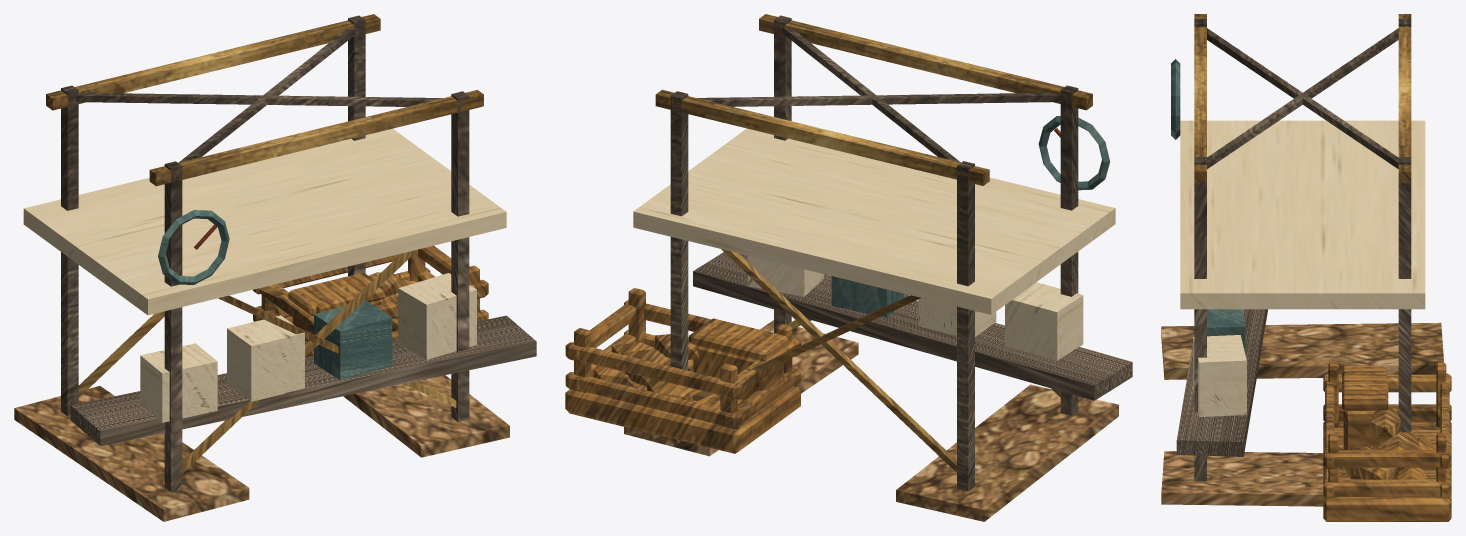
Rendered from catalog-sorting-gantry.glb.
3 views of the same model, side by side, from view 1: azimuth 30°, elevation 25°; view 2: azimuth 150°, elevation 25°; view 3: azimuth 270°, elevation 25° (orthographic).
Visible parts, largest first — view 1: catalog-sorting-gantry; view 2: catalog-sorting-gantry; view 3: catalog-sorting-gantry.
Part boxes in pixels (x1,y1,x2,y2): catalog-sorting-gantry: [14, 14, 536, 521]; catalog-sorting-gantry: [565, 14, 1132, 521]; catalog-sorting-gantry: [1161, 14, 1451, 521].
Size of the model in its own units: 8.73 by 6.25 by 4.97.
1 material, 1 textured.
